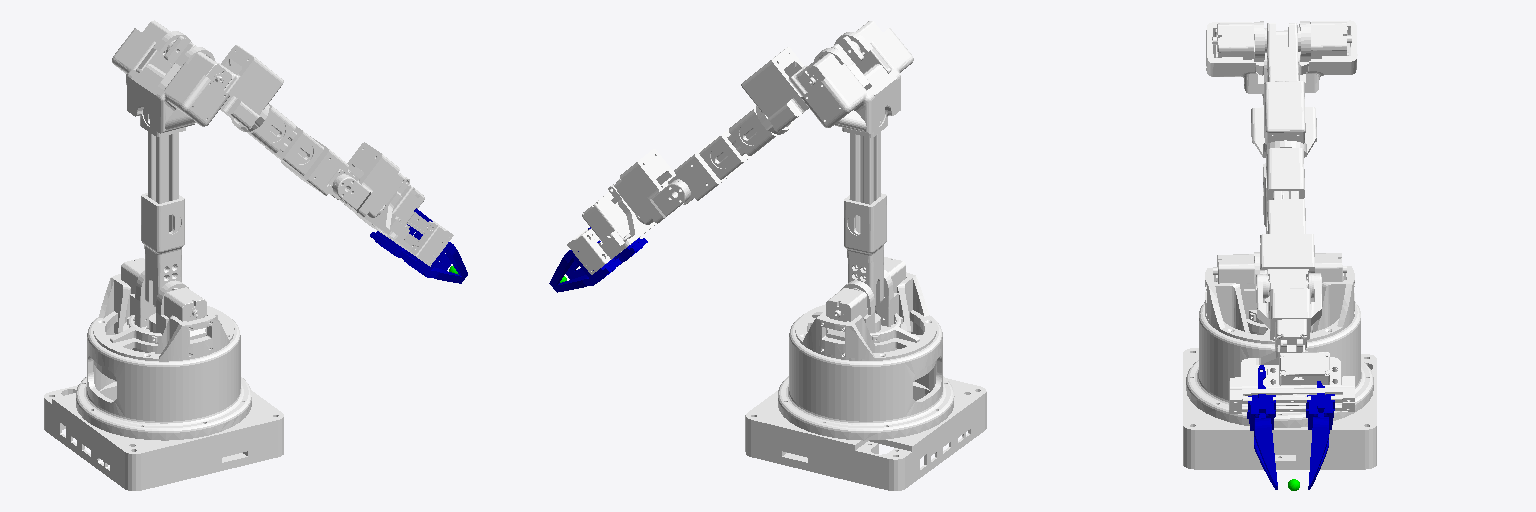
URDF robot description (alicia_duo_descriptions):
<?xml version="1.0" encoding="utf-8"?>
<!-- =================================================================================== -->
<!-- |    This URDF was modified and combined for MoveIt compatibility.                | -->
<!-- |    Original arm URDF generated by SolidWorks to URDF Exporter.                  | -->
<!-- |    Gripper parts added manually.                                                | -->
<!-- |    'world' link, TCP link, and transmissions added for ROS Control/MoveIt.      | -->
<!-- =================================================================================== -->

<robot name="alicia_duo_descriptions">

  <!-- =================================================================================== -->
  <!-- |                              Base World Link                                    | -->
  <!-- =================================================================================== -->
  <link name="world" />

  <joint name="world_joint" type="fixed">
    <parent link="world" />
    <child link="base_link" />
    <origin xyz="0 0 0" rpy="0 0 0" />
  </joint>

  <!-- =================================================================================== -->
  <!-- |                                Robot Base Link                                  | -->
  <!-- =================================================================================== -->
  <link name="base_link">
    <inertial>
      <origin xyz="-1.12822541424722E-09 0.0016235948270739 0.0309902540367644" rpy="0 0 0" />
      <mass value="0.336690291883532" />
      <inertia ixx="0.000600527677920599" ixy="2.30270287450371E-05" ixz="3.31033471508956E-11" iyy="0.00063128325368123" iyz="-5.28749380185059E-06" izz="0.00107257567609787" />
    </inertial>
    <visual>
      <origin xyz="0 0 0" rpy="0 0 0" />
      <geometry>
        <mesh filename="package://alicia_duo_descriptions/meshes/base_link.STL" />
      </geometry>
      <material name="white">
        <color rgba="1 1 1 1" />
      </material>
    </visual>
    <collision>
      <origin xyz="0 0 0" rpy="0 0 0" />
      <geometry>
        <mesh filename="package://alicia_duo_descriptions/meshes/base_link.STL" />
      </geometry>
    </collision>
  </link>

  <!-- =================================================================================== -->
  <!-- |                                Arm Links & Joints                               | -->
  <!-- =================================================================================== -->
  <link name="Link01">
    <inertial>
      <origin xyz="6.91413365434281E-05 0.000102778304609986 0.0549674750575125" rpy="0 0 0" />
      <mass value="0.201893793843293" />
      <inertia ixx="0.000256699395369546" ixy="4.2126569426062E-06" ixz="7.27706599736705E-08" iyy="0.000131350273372018" iyz="4.38806747371623E-08" izz="0.000315268147387291" />
    </inertial>
    <visual>
      <origin xyz="0 0 0" rpy="0 0 0" />
      <geometry>
        <mesh filename="package://alicia_duo_descriptions/meshes/Link01.STL" />
      </geometry>
      <material name="white" />
    </visual>
    <collision>
      <origin xyz="0 0 0" rpy="0 0 0" />
      <geometry>
        <mesh filename="package://alicia_duo_descriptions/meshes/Link01.STL" />
      </geometry>
    </collision>
  </link>

  <joint name="Joint01" type="revolute">
    <origin xyz="0 0 0.0448" rpy="0 0 0" />
    <parent link="base_link" />
    <child link="Link01" />
    <axis xyz="0 0 -1" /> <!-- Axis slightly adjusted for clarity, original was 0 0 -1 -->
    <limit lower="-3.14" upper="3.14" effort="10" velocity="1.0" /> <!-- Added placeholder effort/velocity -->
  </joint>

  <link name="Link02">
    <inertial>
      <origin xyz="0.00150549462098446 -0.145246853748378 0.00109907916363092" rpy="0 0 0" />
      <mass value="0.212441655331353" />
      <inertia ixx="0.0002054822780722" ixy="2.44820752178825E-06" ixz="2.77953533970126E-06" iyy="0.000131118997491629" iyz="2.53938078760784E-06" izz="0.000117695346139495" />
    </inertial>
    <visual>
      <origin xyz="0 0 0" rpy="0 0 0" />
      <geometry>
        <mesh filename="package://alicia_duo_descriptions/meshes/Link02.STL" />
      </geometry>
      <material name="white" />
    </visual>
    <collision>
      <origin xyz="0 0 0" rpy="0 0 0" />
      <geometry>
        <mesh filename="package://alicia_duo_descriptions/meshes/Link02.STL" />
      </geometry>
    </collision>
  </link>

  <joint name="Joint02" type="revolute">
    <origin xyz="-3.998E-05 0 0.09471" rpy="-1.5708 0 0" />
    <parent link="Link01" />
    <child link="Link02" />
    <axis xyz="0 0 1" /> <!-- Axis simplified for clarity, original was slightly off Z: -0.031602 0 0.9995 -->
    <limit lower="-1.57" upper="1.57" effort="10" velocity="1.0" /> <!-- Added placeholder effort/velocity -->
  </joint>

  <link name="Link03">
    <inertial>
      <origin xyz="0.0473414667658727 -0.00400830630286259 0.00111942660192283" rpy="0 0 0" />
      <mass value="0.0657263285269435" />
      <inertia ixx="2.11001090028887E-05" ixy="4.36096320575083E-06" ixz="2.85676412713156E-06" iyy="4.8691575363126E-05" iyz="-2.45058809149858E-07" izz="5.19598368516365E-05" />
    </inertial>
    <visual>
      <origin xyz="0 0 0" rpy="0 0 0" />
      <geometry>
        <mesh filename="package://alicia_duo_descriptions/meshes/Link03.STL" />
      </geometry>
      <material name="white" />
    </visual>
    <collision>
      <origin xyz="0 0 0" rpy="0 0 0" />
      <geometry>
        <mesh filename="package://alicia_duo_descriptions/meshes/Link03.STL" />
      </geometry>
    </collision>
  </link>

  <joint name="Joint03" type="revolute">
    <origin xyz="0.022898 -0.21357 0.0017856" rpy="0 0 0.7854" />
    <parent link="Link02" />
    <child link="Link03" />
    <axis xyz="0 0 -1" /> <!-- Axis simplified for clarity, original was slightly off -Z: 0.022346 -0.022346 -0.9995 -->
    <limit lower="-0.52" upper="2.35" effort="10" velocity="1.0" /> <!-- Added placeholder effort/velocity -->
  </joint>

  <link name="Link04">
    <inertial>
      <origin xyz="-4.06896212049035E-05 -0.000151021090799505 0.0688919323210952" rpy="0 0 0" />
      <mass value="0.0968331868100811" />
      <inertia ixx="2.97950417648703E-05" ixy="-4.79570407703021E-08" ixz="1.20464773885749E-08" iyy="2.8721371701525E-05" iyz="3.08948734356075E-07" izz="1.76957940053587E-05" />
    </inertial>
    <visual>
      <origin xyz="0 0 0" rpy="0 0 0" />
      <geometry>
        <mesh filename="package://alicia_duo_descriptions/meshes/Link04.STL" />
      </geometry>
      <material name="white" />
    </visual>
    <collision>
      <origin xyz="0 0 0" rpy="0 0 0" />
      <geometry>
        <mesh filename="package://alicia_duo_descriptions/meshes/Link04.STL" />
      </geometry>
    </collision>
  </link>

  <joint name="Joint04" type="revolute">
    <origin xyz="0.089177 0.0021828 0.001995" rpy="-1.5484 0.022325 -1.57" />
    <parent link="Link03" />
    <child link="Link04" />
    <axis xyz="0 0 -1" /> <!-- Axis simplified for clarity, original was slightly off Z: -0.024209 0.00052155 0.99971 -->
    <limit lower="-3.14" upper="3.14" effort="10" velocity="1.0" /> <!-- Added placeholder effort/velocity -->
  </joint>

  <link name="Link05">
    <inertial>
      <origin xyz="0.0108878739115628 0.0252170351665851 0.0015699243545176" rpy="0 0 0" />
      <mass value="0.0325826711334277" />
      <inertia ixx="1.01403032166353E-05" ixy="-1.34212851221052E-06" ixz="5.75512709165777E-08" iyy="1.43785617510427E-05" iyz="2.09348985152106E-07" izz="1.08796607017424E-05" />
    </inertial>
    <visual>
      <origin xyz="0 0 0" rpy="0 0 0" />
      <geometry>
        <mesh filename="package://alicia_duo_descriptions/meshes/Link05.STL" />
      </geometry>
      <material name="white" />
    </visual>
    <collision>
      <origin xyz="0 0 0" rpy="0 0 0" />
      <geometry>
        <mesh filename="package://alicia_duo_descriptions/meshes/Link05.STL" />
      </geometry>
    </collision>
  </link>

  <joint name="Joint05" type="revolute">
    <!-- <origin xyz="-0.00020544 -0.00034116 0.11911" rpy="1.5484 0.00024963 -0.022337" /> -->
    <origin xyz="-0.00020544 -0.00034116 0.11911" rpy="1.5484 0.00024963 -0.022337" />
    <parent link="Link04" />
    <child link="Link05" />
    <axis xyz="0 0 1" /> <!-- Axis simplified for clarity, original was slightly off Z: -0.022346 -0.022346 0.9995 -->
    <limit lower="-1.57" upper="1.57" effort="10" velocity="1.0" /> <!-- Added placeholder effort/velocity -->
  </joint>

  <link name="Link06">
    <inertial>
      <origin xyz="3.11347092551983E-09 -6.19959954033245E-10 -0.00146275616399914" rpy="0 0 0" />
      <mass value="0.000754053623586498" />
      <inertia ixx="1.92367692913217E-08" ixy="9.19452422026982E-14" ixz="-3.52333042434498E-15" iyy="1.9235836025852E-08" iyz="3.901332223803E-17" izz="3.70123450485769E-08" />
    </inertial>
    <visual>
      <origin xyz="0 0 0" rpy="0 0 0" />
      <geometry>
        <mesh filename="package://alicia_duo_descriptions/meshes/Link06.STL" />
      </geometry>
      <material name="white" />
    </visual>
    <collision>
      <origin xyz="0 0 0" rpy="0 0 0" />
      <geometry>
        <mesh filename="package://alicia_duo_descriptions/meshes/Link06.STL" />
      </geometry>
    </collision>
  </link>

  <joint name="Joint06" type="revolute">
    <origin xyz="0.0038622 0.059172 0.0019495" rpy="-1.5484 -0.022348 -0.00024989" />
    <parent link="Link05" />
    <child link="Link06" />
    <axis xyz="0 0 -1" />
    <limit lower="-3.14" upper="3.14" effort="10" velocity="1.0" /> <!-- Added placeholder effort/velocity -->
  </joint>

  <!-- =================================================================================== -->
<!-- |                              Gripper Control Joint                               | -->
<!-- =================================================================================== -->
<!-- 添加一个虚拟连杆作为夹爪控制的父连杆 -->
<link name="gripper_base">
  <inertial>
    <mass value="0.001" />
    <origin xyz="0 0 0" rpy="0 0 0" />
    <inertia ixx="1e-6" ixy="0" ixz="0" iyy="1e-6" iyz="0" izz="1e-6" />
  </inertial>
</link>

<!-- 将gripper_base连接到Link06 -->
<joint name="gripper_base_joint" type="fixed">
  <origin xyz="0 0 0.0615" rpy="0 -1.5708 0" />
  <parent link="Link06" />
  <child link="gripper_base" />
</joint>
<!-- 夹爪左手指链接 -->
<link name="Grapper_finger_left">
  <visual>
    <origin xyz="0 0 0" rpy="0 0 0"/>
    <geometry>
      <mesh filename="package://alicia_duo_descriptions/meshes/Grapper_finger_left.STL"/>
    </geometry>
    <material name="blue">
      <color rgba="0 0 0.8 1"/>
    </material>
  </visual>
  <collision>
    <origin xyz="0 0 0" rpy="0 0 0"/>
    <geometry>
      <mesh filename="package://alicia_duo_descriptions/meshes/Grapper_finger_left.STL"/>
    </geometry>
  </collision>
  <inertial>
    <mass value="0.01"/>
    <origin xyz="0 0 0" rpy="0 0 0"/>
    <inertia ixx="1e-5" ixy="0" ixz="0" iyy="1e-5" iyz="0" izz="1e-5"/>
  </inertial>
</link>

<!-- 夹爪右手指链接 -->
<link name="Grapper_finger_right">
  <visual>
    <origin xyz="0 0 0" rpy="0 0 0"/>
    <geometry>
      <mesh filename="package://alicia_duo_descriptions/meshes/Grapper_finger_right.STL"/>
    </geometry>
    <material name="blue">
      <color rgba="0 0 0.8 1"/>
    </material>
  </visual>
  <collision>
    <origin xyz="0 0 0" rpy="0 0 0"/>
    <geometry>
      <mesh filename="package://alicia_duo_descriptions/meshes/Grapper_finger_right.STL"/>
    </geometry>
  </collision>
  <inertial>
    <mass value="0.01"/>
    <origin xyz="0 0 0" rpy="0 0 0"/>
    <inertia ixx="1e-5" ixy="0" ixz="0" iyy="1e-5" iyz="0" izz="1e-5"/>
  </inertial>
</link>
<!-- 添加一个夹爪控制关节 -->
<link name="gripper_control">
  <inertial>
    <mass value="0.001" />
    <origin xyz="0 0 0" rpy="0 0 0" />
    <inertia ixx="1e-6" ixy="0" ixz="0" iyy="1e-6" iyz="0" izz="1e-6" />
  </inertial>
</link>

<!-- 这是控制整个夹爪开合的主关节 - 范围保持不变 -->
<joint name="Grip_control" type="prismatic">
  <origin xyz="0 0 0" rpy="0 0 0" />
  <parent link="gripper_base" />
  <child link="gripper_control" />
  <axis xyz="1 0 0" />
  <limit lower="0" upper="0.04" effort="10" velocity="0.1" />
</joint>

<!-- 修改左手指关节，使它从闭合到打开 -->
<joint name="Grapper_finger_left_joint" type="prismatic">
  <origin xyz="0 0.01 0" rpy="0 0 0" />
  <parent link="gripper_base" />
  <child link="Grapper_finger_left" />
  <axis xyz="0 1 0" />
  <limit lower="-0.02" upper="0.02" effort="5" velocity="0.1" />
  <!-- 当grip=0时处于闭合位置，当grip=0.04时处于打开位置 -->
  <mimic joint="Grip_control" multiplier="0.5" offset="-0.015" />
</joint>

<!-- 修改右手指关节，使它从闭合到打开 -->
<joint name="Grapper_finger_right_joint" type="prismatic">
  <origin xyz="0 -0.01 0" rpy="0 0 0" />
  <parent link="gripper_base" />
  <child link="Grapper_finger_right" />
  <axis xyz="0 -1 0" />
  <limit lower="-0.02" upper="0.02" effort="5" velocity="0.1" />
  <!-- 当grip=0时处于闭合位置，当grip=0.04时处于打开位置 -->
  <mimic joint="Grip_control" multiplier="0.5" offset="-0.015" />
</joint>

<!-- 为grip关节添加transmission -->
<transmission name="tran_grip">
  <type>transmission_interface/SimpleTransmission</type>
  <joint name="Grip_control">
    <hardwareInterface>hardware_interface/PositionJointInterface</hardwareInterface>
  </joint>
  <actuator name="motor_grip">
    <hardwareInterface>hardware_interface/PositionJointInterface</hardwareInterface>
    <mechanicalReduction>1</mechanicalReduction>
  </actuator>
</transmission>
  <!-- =================================================================================== -->
  <!-- |                       Tool Center Point (TCP) Link - Visual Only                | -->
  <!-- =================================================================================== -->
  <link name="tcp_link">
      <visual>
          <origin xyz="0 0 0" rpy="0 0 0"/>
          <geometry>
              <sphere radius="0.005"/>
          </geometry>
          <material name="green">
              <color rgba="0 1 0 1"/>
          </material>
      </visual>
      <!-- No collision geometry as requested -->
      <inertial> <!-- Dummy inertial for valid link -->
          <mass value="1e-5" />
          <origin xyz="0 0 0" rpy="0 0 0"/>
          <inertia ixx="1e-6" ixy="0" ixz="0" iyy="1e-6" iyz="0" izz="1e-6" />
      </inertial>
  </link>

<!-- 将joint_tcp连接到gripper_control而不是Link06 -->
<joint name="joint_tcp" type="fixed">
    <parent link="gripper_control"/>
    <child link="tcp_link"/>
    <!-- 调整位置以适应新的父链接 -->
    <origin xyz="0.05 0 0" rpy="0 0 0"/>
</joint>

  <!-- =================================================================================== -->
  <!-- |                              Transmission Elements                              | -->
  <!-- =================================================================================== -->
  <!-- Transmissions for ros_control -->
  <transmission name="tran1">
    <type>transmission_interface/SimpleTransmission</type>
    <joint name="Joint01">
      <hardwareInterface>hardware_interface/PositionJointInterface</hardwareInterface>
    </joint>
    <actuator name="motor1">
      <hardwareInterface>hardware_interface/PositionJointInterface</hardwareInterface>
      <mechanicalReduction>1</mechanicalReduction>
    </actuator>
  </transmission>

  <transmission name="tran2">
    <type>transmission_interface/SimpleTransmission</type>
    <joint name="Joint02">
      <hardwareInterface>hardware_interface/PositionJointInterface</hardwareInterface>
    </joint>
    <actuator name="motor2">
      <hardwareInterface>hardware_interface/PositionJointInterface</hardwareInterface>
      <mechanicalReduction>1</mechanicalReduction>
    </actuator>
  </transmission>

  <transmission name="tran3">
    <type>transmission_interface/SimpleTransmission</type>
    <joint name="Joint03">
      <hardwareInterface>hardware_interface/PositionJointInterface</hardwareInterface>
    </joint>
    <actuator name="motor3">
      <hardwareInterface>hardware_interface/PositionJointInterface</hardwareInterface>
      <mechanicalReduction>1</mechanicalReduction>
    </actuator>
  </transmission>

  <transmission name="tran4">
    <type>transmission_interface/SimpleTransmission</type>
    <joint name="Joint04">
      <hardwareInterface>hardware_interface/PositionJointInterface</hardwareInterface>
    </joint>
    <actuator name="motor4">
      <hardwareInterface>hardware_interface/PositionJointInterface</hardwareInterface>
      <mechanicalReduction>1</mechanicalReduction>
    </actuator>
  </transmission>

  <transmission name="tran5">
    <type>transmission_interface/SimpleTransmission</type>
    <joint name="Joint05">
      <hardwareInterface>hardware_interface/PositionJointInterface</hardwareInterface>
    </joint>
    <actuator name="motor5">
      <hardwareInterface>hardware_interface/PositionJointInterface</hardwareInterface>
      <mechanicalReduction>1</mechanicalReduction>
    </actuator>
  </transmission>

  <transmission name="tran6">
    <type>transmission_interface/SimpleTransmission</type>
    <joint name="Joint06">
      <hardwareInterface>hardware_interface/PositionJointInterface</hardwareInterface>
    </joint>
    <actuator name="motor6">
      <hardwareInterface>hardware_interface/PositionJointInterface</hardwareInterface>
      <mechanicalReduction>1</mechanicalReduction>
    </actuator>
  </transmission>

  <transmission name="tran_grip_L">
    <type>transmission_interface/SimpleTransmission</type>
    <joint name="Grapper_finger_left_joint">
      <hardwareInterface>hardware_interface/PositionJointInterface</hardwareInterface>
    </joint>
    <actuator name="motor_grip_L">
      <hardwareInterface>hardware_interface/PositionJointInterface</hardwareInterface>
      <mechanicalReduction>1</mechanicalReduction>
    </actuator>
  </transmission>

  <transmission name="tran_grip_R">
    <type>transmission_interface/SimpleTransmission</type>
    <joint name="Grapper_finger_right_joint">
      <hardwareInterface>hardware_interface/PositionJointInterface</hardwareInterface>
    </joint>
    <actuator name="motor_grip_R">
      <hardwareInterface>hardware_interface/PositionJointInterface</hardwareInterface>
      <mechanicalReduction>1</mechanicalReduction>
    </actuator>
  </transmission>

</robot>

--- Facts derived from the render (not from the file) ---
3 views of the same robot in one strip: view 1: azimuth 30°, elevation 25°; view 2: azimuth 150°, elevation 25°; view 3: azimuth 270°, elevation 25° (orthographic).
Robot: alicia_duo_descriptions — 13 links, 12 joints (6 revolute, 3 prismatic, 3 fixed); root link world; default pose: every joint at zero.
Visible links, largest first — view 1: base_link, Link02, Link01, Link03, Link04, Link06, Link05, Grapper_finger_right, Grapper_finger_left; view 2: base_link, Link02, Link01, Link03, Link04, Link06, Link05, Grapper_finger_left, Grapper_finger_right; view 3: base_link, Link02, Link04, Link01, Link06, Link03, Link05, Grapper_finger_right, Grapper_finger_left.
Link boxes in pixels (x1=…): base_link: x1=44, y1=306, x2=283, y2=490; Link02: x1=112, y1=20, x2=231, y2=306; Link01: x1=94, y1=258, x2=229, y2=380; Link03: x1=164, y1=36, x2=283, y2=131; Link04: x1=239, y1=104, x2=354, y2=199; Link06: x1=344, y1=177, x2=453, y2=266; Link05: x1=332, y1=142, x2=404, y2=217; Grapper_finger_right: x1=399, y1=208, x2=467, y2=283; Grapper_finger_left: x1=370, y1=224, x2=451, y2=270; base_link: x1=745, y1=304, x2=986, y2=490; Link02: x1=798, y1=21, x2=913, y2=306; Link01: x1=802, y1=257, x2=936, y2=380; Link03: x1=741, y1=36, x2=863, y2=134; Link04: x1=668, y1=107, x2=776, y2=204; Link06: x1=567, y1=179, x2=656, y2=274; Link05: x1=614, y1=149, x2=690, y2=224; Grapper_finger_left: x1=549, y1=227, x2=621, y2=292; Grapper_finger_right: x1=566, y1=238, x2=647, y2=279; base_link: x1=1183, y1=302, x2=1376, y2=469; Link02: x1=1206, y1=20, x2=1357, y2=233; Link04: x1=1260, y1=148, x2=1314, y2=295; Link01: x1=1205, y1=252, x2=1354, y2=334; Link06: x1=1229, y1=339, x2=1354, y2=413; Link03: x1=1251, y1=23, x2=1316, y2=157; Link05: x1=1256, y1=273, x2=1321, y2=351; Grapper_finger_right: x1=1247, y1=365, x2=1277, y2=489; Grapper_finger_left: x1=1306, y1=381, x2=1334, y2=489.
Size in the robot's own frame: 0.3743 by 0.155 by 0.3687 metres.
Meshes: 9 distinct files referenced, 9 mesh visuals loaded (9 binary STL).
